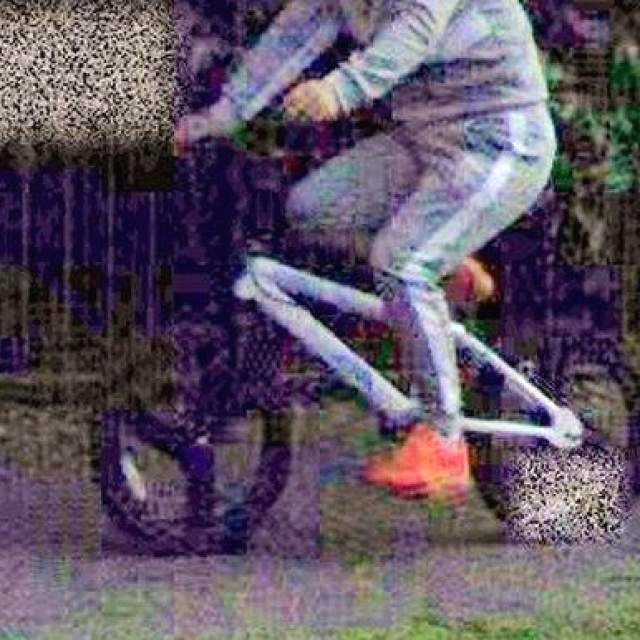bicycle: (79, 56, 633, 590)
